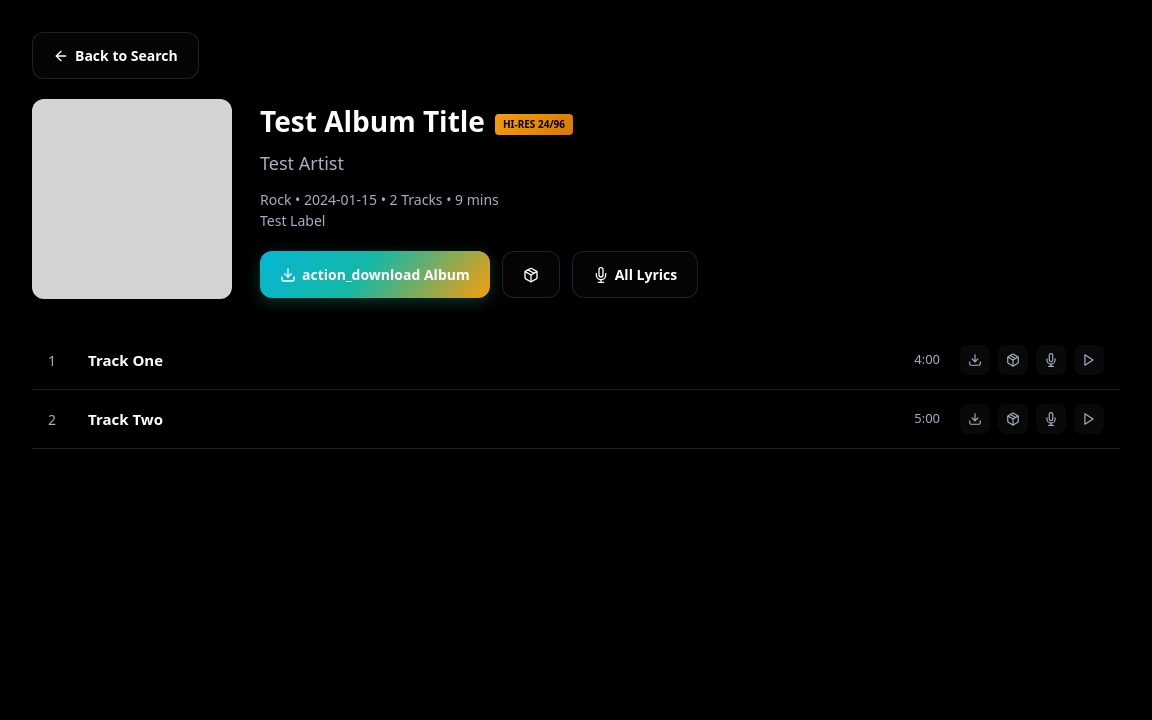
it: AlbumDetailView › cancels modal
Click the button "action_download Album": point(375, 274) [260,251,490,298]
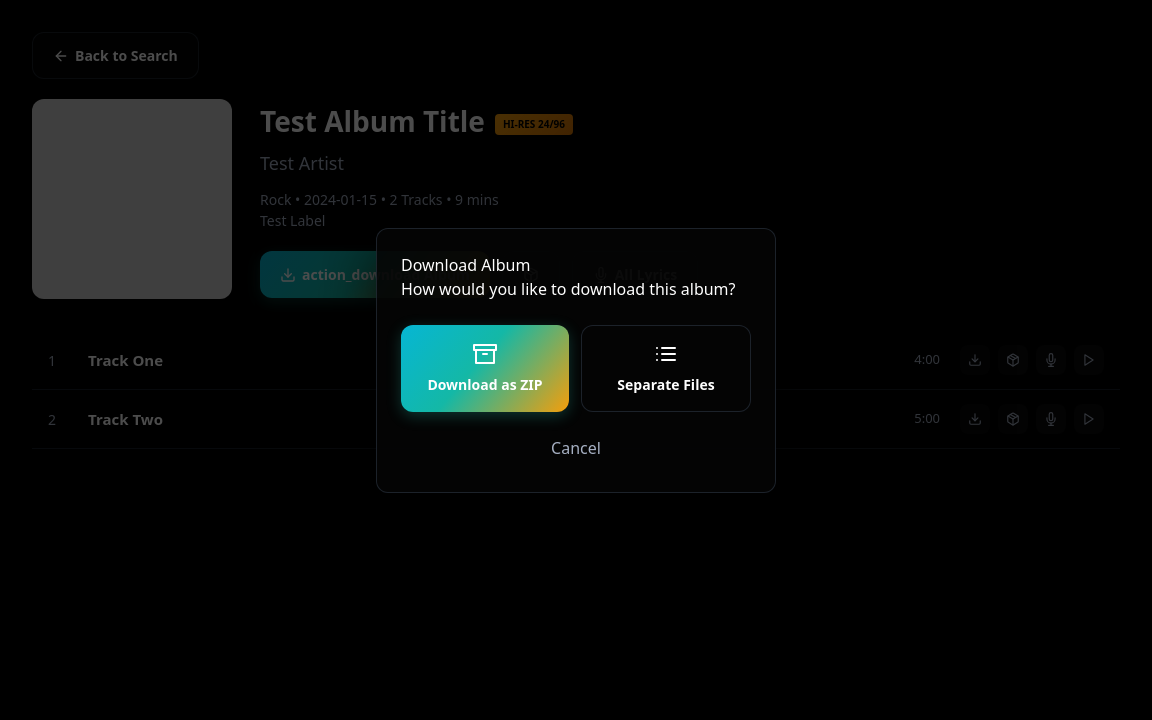
Click the button "Cancel": point(576, 448) [401,428,751,468]
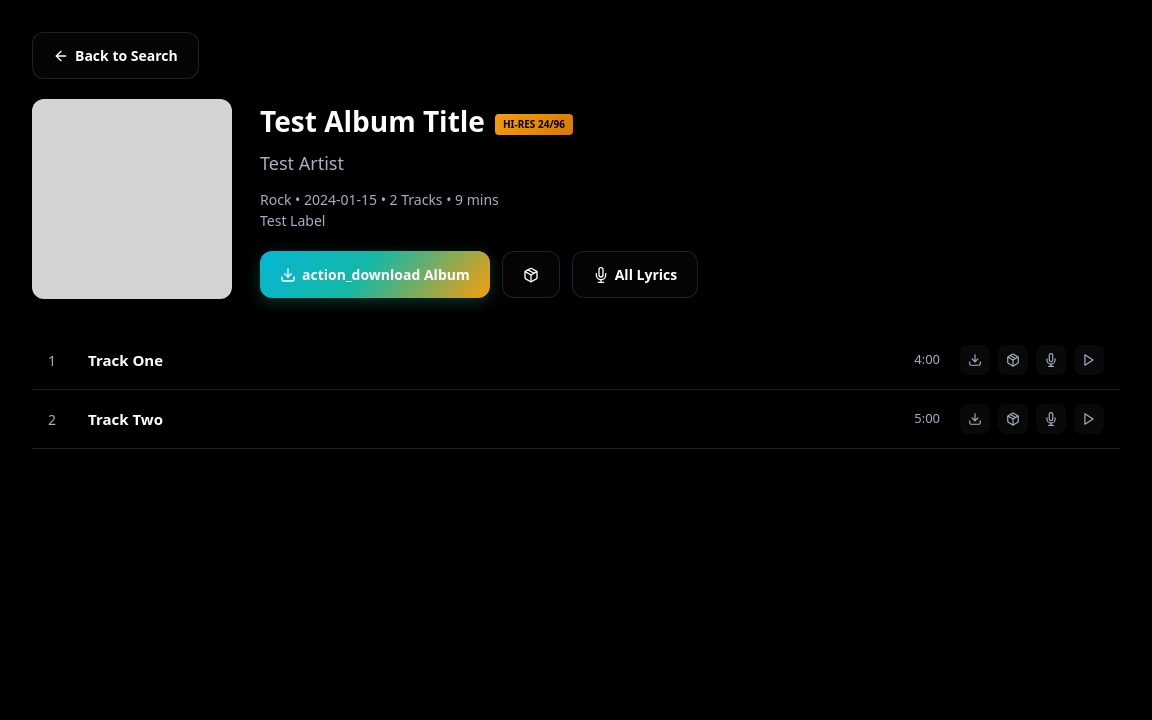
Expected: the button "Download as ZIP" is gone
